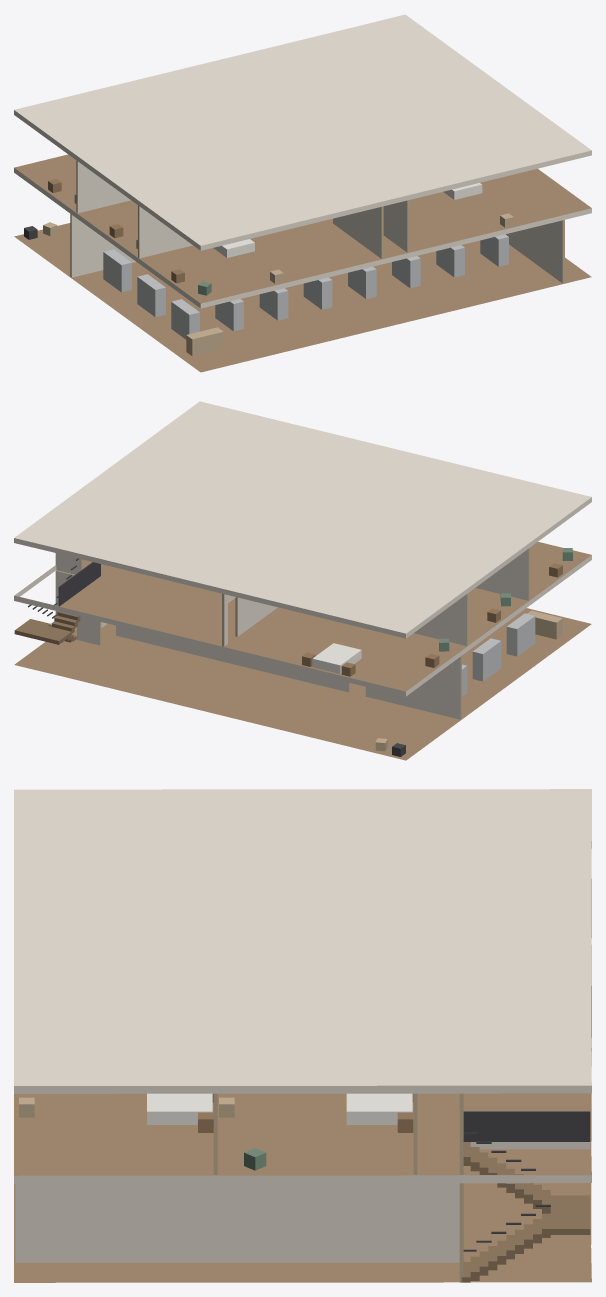
File: interior.glb
3 renders of one model, top to bottom at view 1: azimuth 30°, elevation 25°; view 2: azimuth 150°, elevation 25°; view 3: azimuth 270°, elevation 25°, orthographic. The views are drawn at different scales.
Visible parts, largest first — view 1: slabs, partitions, coarse-s0, coarse-s1; view 2: slabs, partitions, coarse-s0, stair, coarse-s1; view 3: slabs, partitions, stair, coarse-s1.
Boxes of the visible parts, x1=… form: slabs: x1=14, y1=14, x2=591, y2=372; partitions: x1=70, y1=160, x2=564, y2=283; coarse-s0: x1=24, y1=222, x2=508, y2=356; coarse-s1: x1=48, y1=179, x2=513, y2=295; slabs: x1=14, y1=401, x2=591, y2=760; partitions: x1=55, y1=548, x2=529, y2=719; coarse-s0: x1=375, y1=610, x2=562, y2=756; stair: x1=14, y1=558, x2=100, y2=644; coarse-s1: x1=302, y1=548, x2=572, y2=676; slabs: x1=14, y1=789, x2=591, y2=1282; partitions: x1=15, y1=1093, x2=463, y2=1282; stair: x1=461, y1=1111, x2=590, y2=1282; coarse-s1: x1=19, y1=1093, x2=413, y2=1170.
Bounding box in the file's own units: 21.3 × 6.6 × 17.52.
